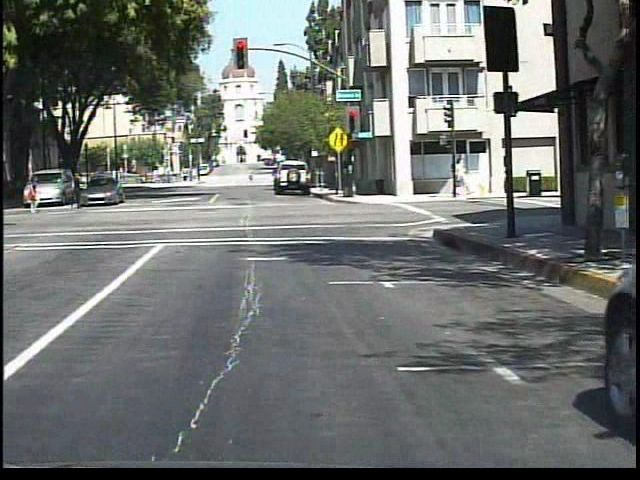person: (62, 170, 86, 214), (20, 177, 42, 217), (246, 169, 254, 186)
